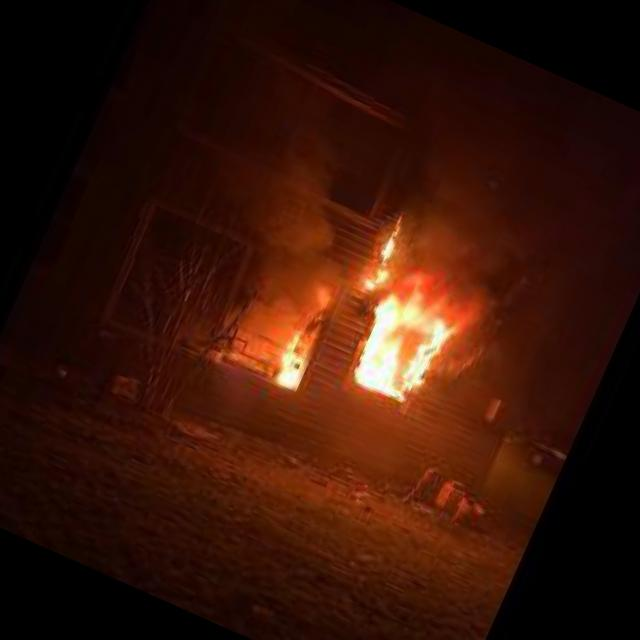fire: (347, 264, 464, 410), (358, 208, 412, 294), (262, 318, 318, 388)
